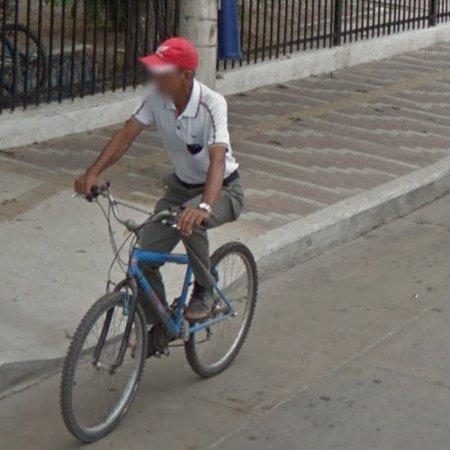bicycles: (60, 183, 258, 444)
